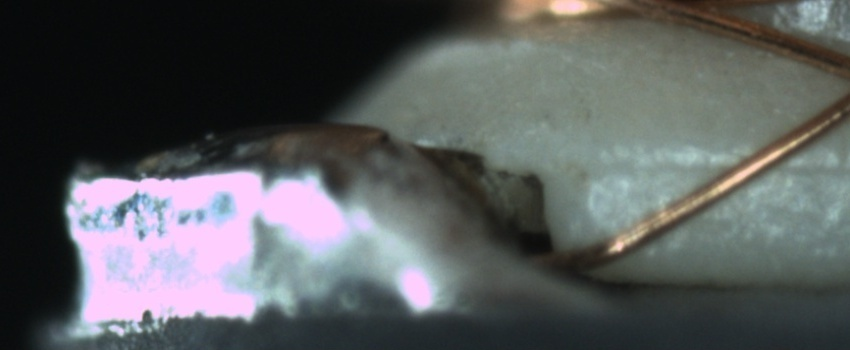DL: (605, 131, 847, 199)
